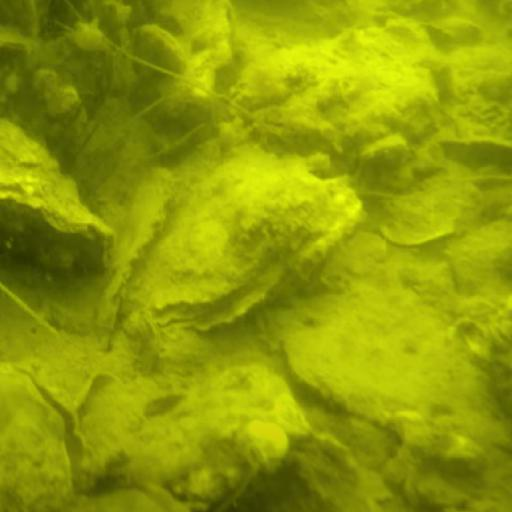Oyster-Closed: (273, 275, 480, 435), (1, 118, 123, 276)
Oyster-Open: (123, 148, 358, 339), (1, 367, 94, 512)
